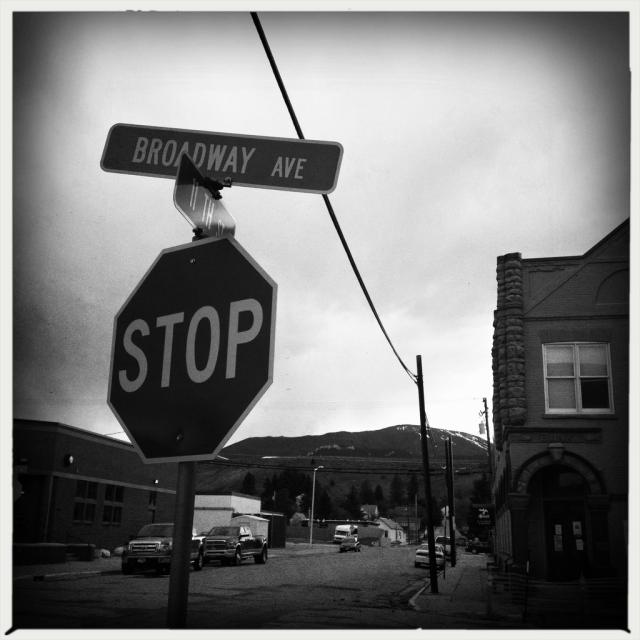Stop-sign: (104, 229, 277, 467)
